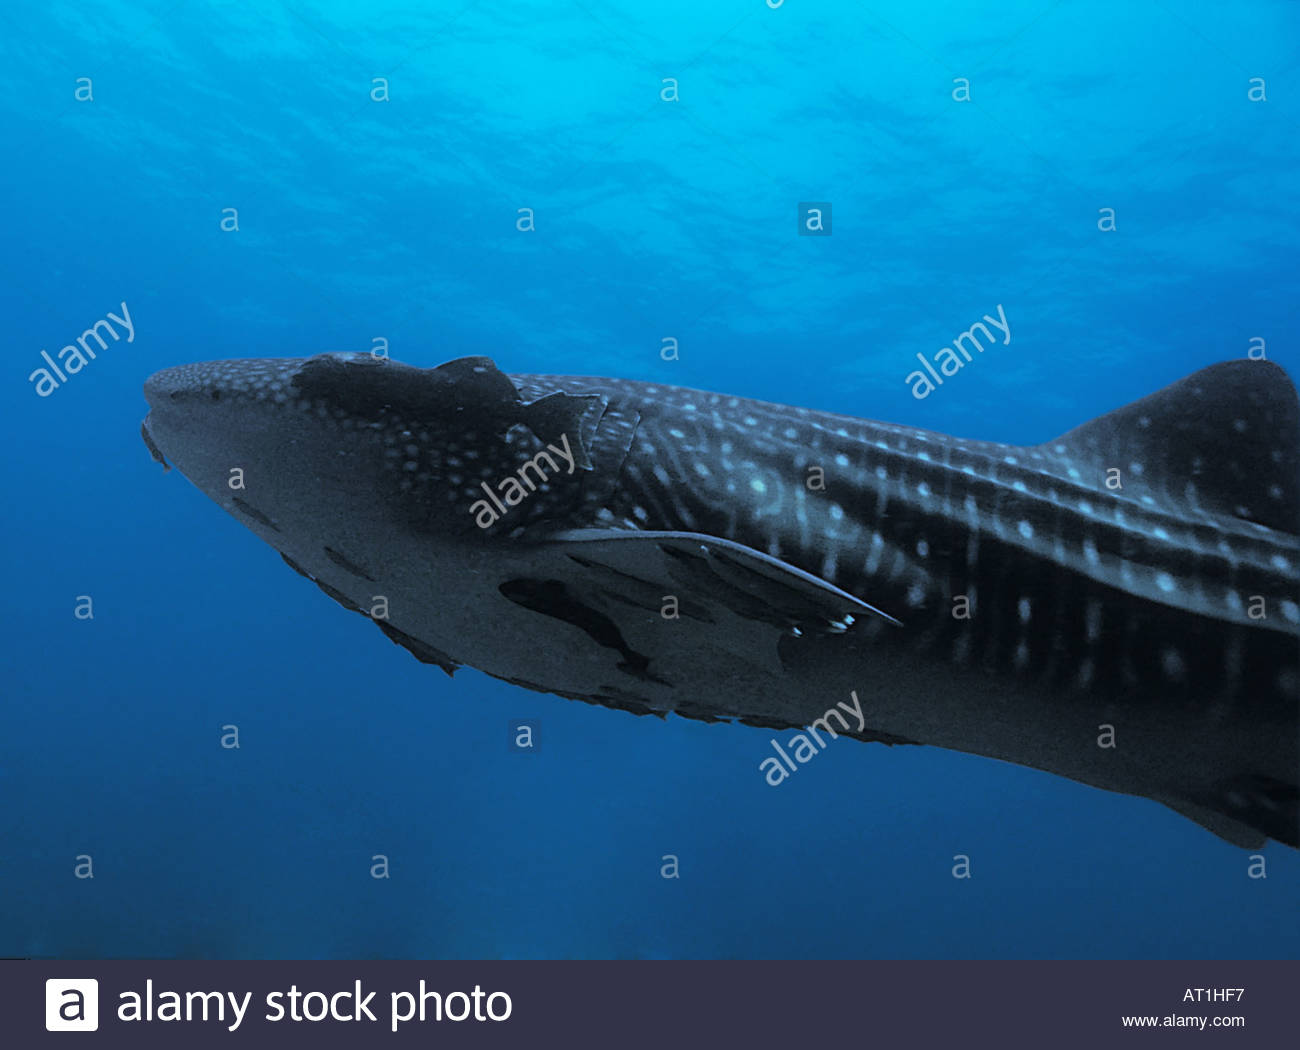Rhincodon_typusw: (83, 300, 1300, 866)
